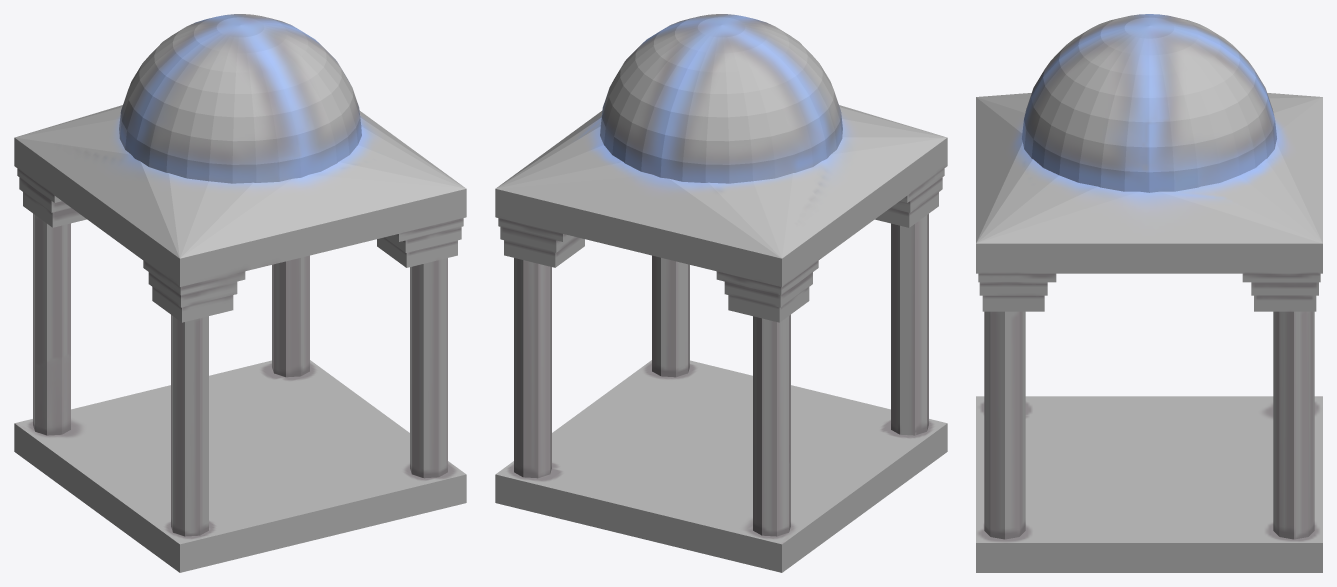
File: heaven_tree_2.fbx
The picture shows the model from 3 angles, left to right: view 1: azimuth 30°, elevation 25°; view 2: azimuth 150°, elevation 25°; view 3: azimuth 270°, elevation 25°; orthographic projection. The views are drawn at different scales.
Parts seen in each view (by area): view 1: heaven_tree_2_LOD0; view 2: heaven_tree_2_LOD0; view 3: heaven_tree_2_LOD0.
Part boxes in pixels (left/top/right/bottom): heaven_tree_2_LOD0: left=14, top=14, right=466, bottom=572; heaven_tree_2_LOD0: left=495, top=14, right=947, bottom=572; heaven_tree_2_LOD0: left=976, top=14, right=1322, bottom=572.
Size of what is drawn, in the model's own units: 8.4 by 8.4 by 12.66.
